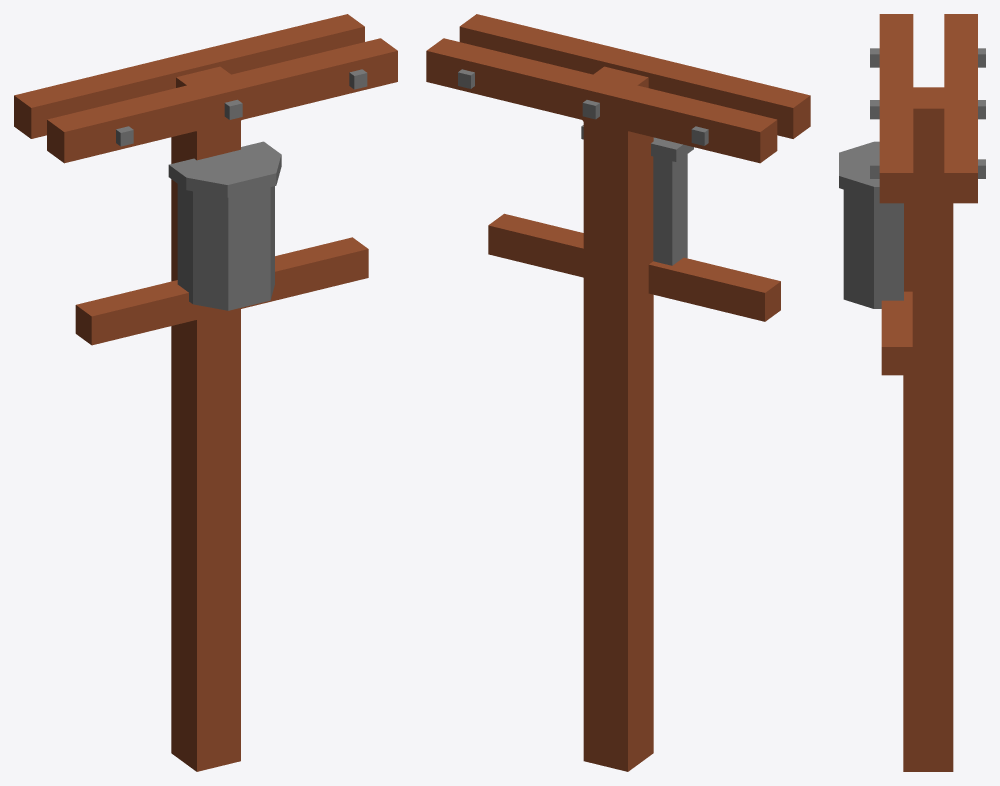
Rendered from powerLineRev1.fbx.
3 views of the same model, side by side, from view 1: azimuth 30°, elevation 25°; view 2: azimuth 150°, elevation 25°; view 3: azimuth 270°, elevation 25° (orthographic). The views are drawn at different scales.
Parts seen in each view (by area): view 1: Cube, Cube.004, Cube.003, Cube.002, Cube.001; view 2: Cube, Cube.002, Cube.004, Cube.001, Cube.003; view 3: Cube, Cube.003, Cube.004, Cube.002, Cube.001.
Part boxes in pixels (bbox=[...]): Cube: bbox=[171, 66, 240, 771]; Cube.004: bbox=[47, 38, 397, 163]; Cube.003: bbox=[168, 141, 281, 310]; Cube.002: bbox=[14, 14, 364, 138]; Cube.001: bbox=[75, 237, 368, 345]; Cube: bbox=[583, 66, 653, 771]; Cube.002: bbox=[426, 38, 777, 163]; Cube.004: bbox=[459, 14, 810, 138]; Cube.001: bbox=[488, 213, 780, 321]; Cube.003: bbox=[581, 125, 693, 265]; Cube: bbox=[903, 87, 953, 771]; Cube.003: bbox=[839, 141, 903, 308]; Cube.004: bbox=[879, 14, 913, 203]; Cube.002: bbox=[944, 14, 977, 203]; Cube.001: bbox=[881, 291, 912, 375].
Bounding box in the file's own units: 231 × 453 × 90.3.
